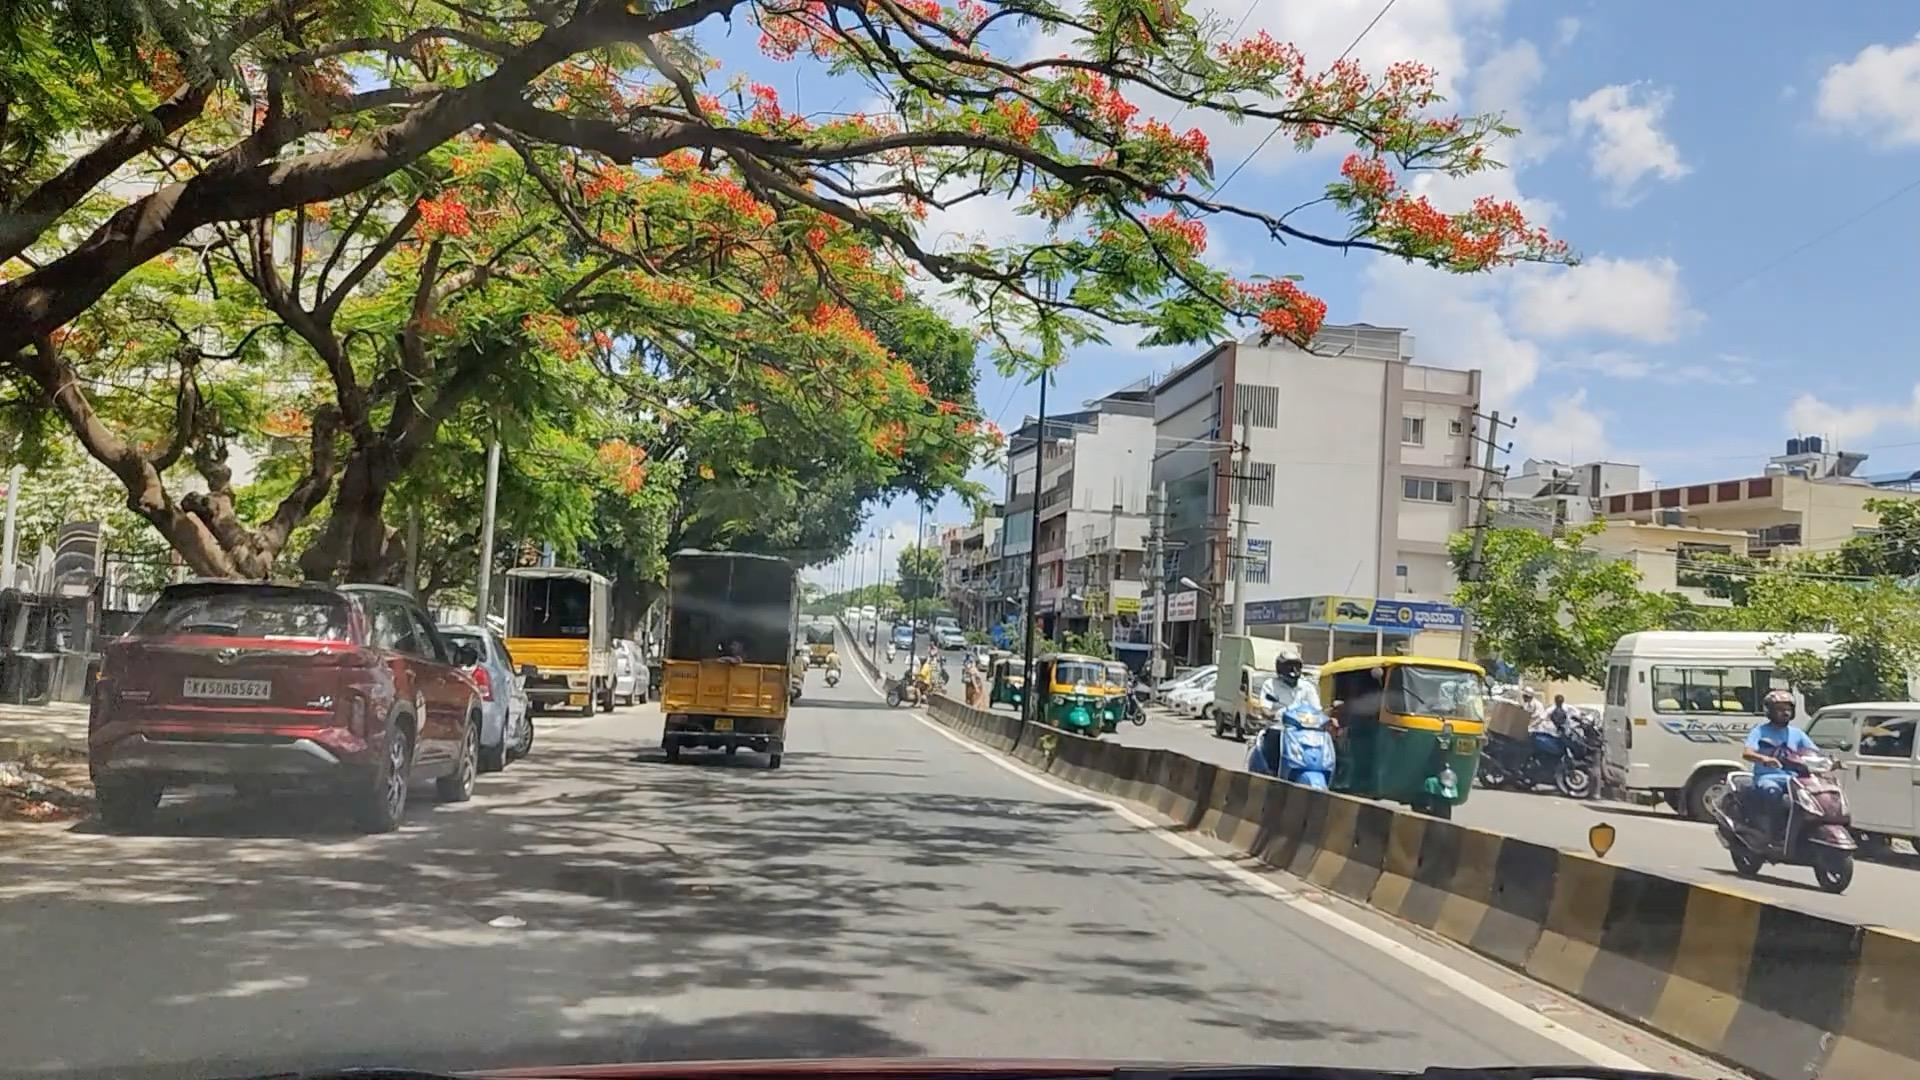HMV: (676, 533, 791, 757)
LMV: (63, 583, 417, 804)
